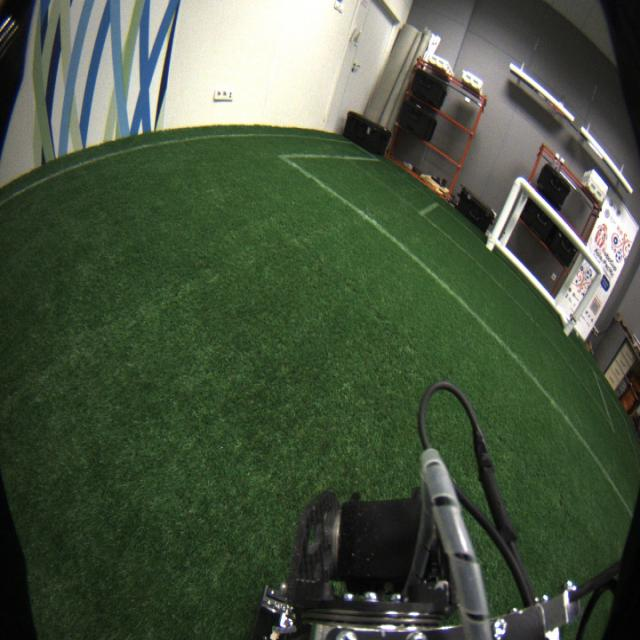goalpost: (562, 267, 606, 337), (485, 175, 524, 252)
